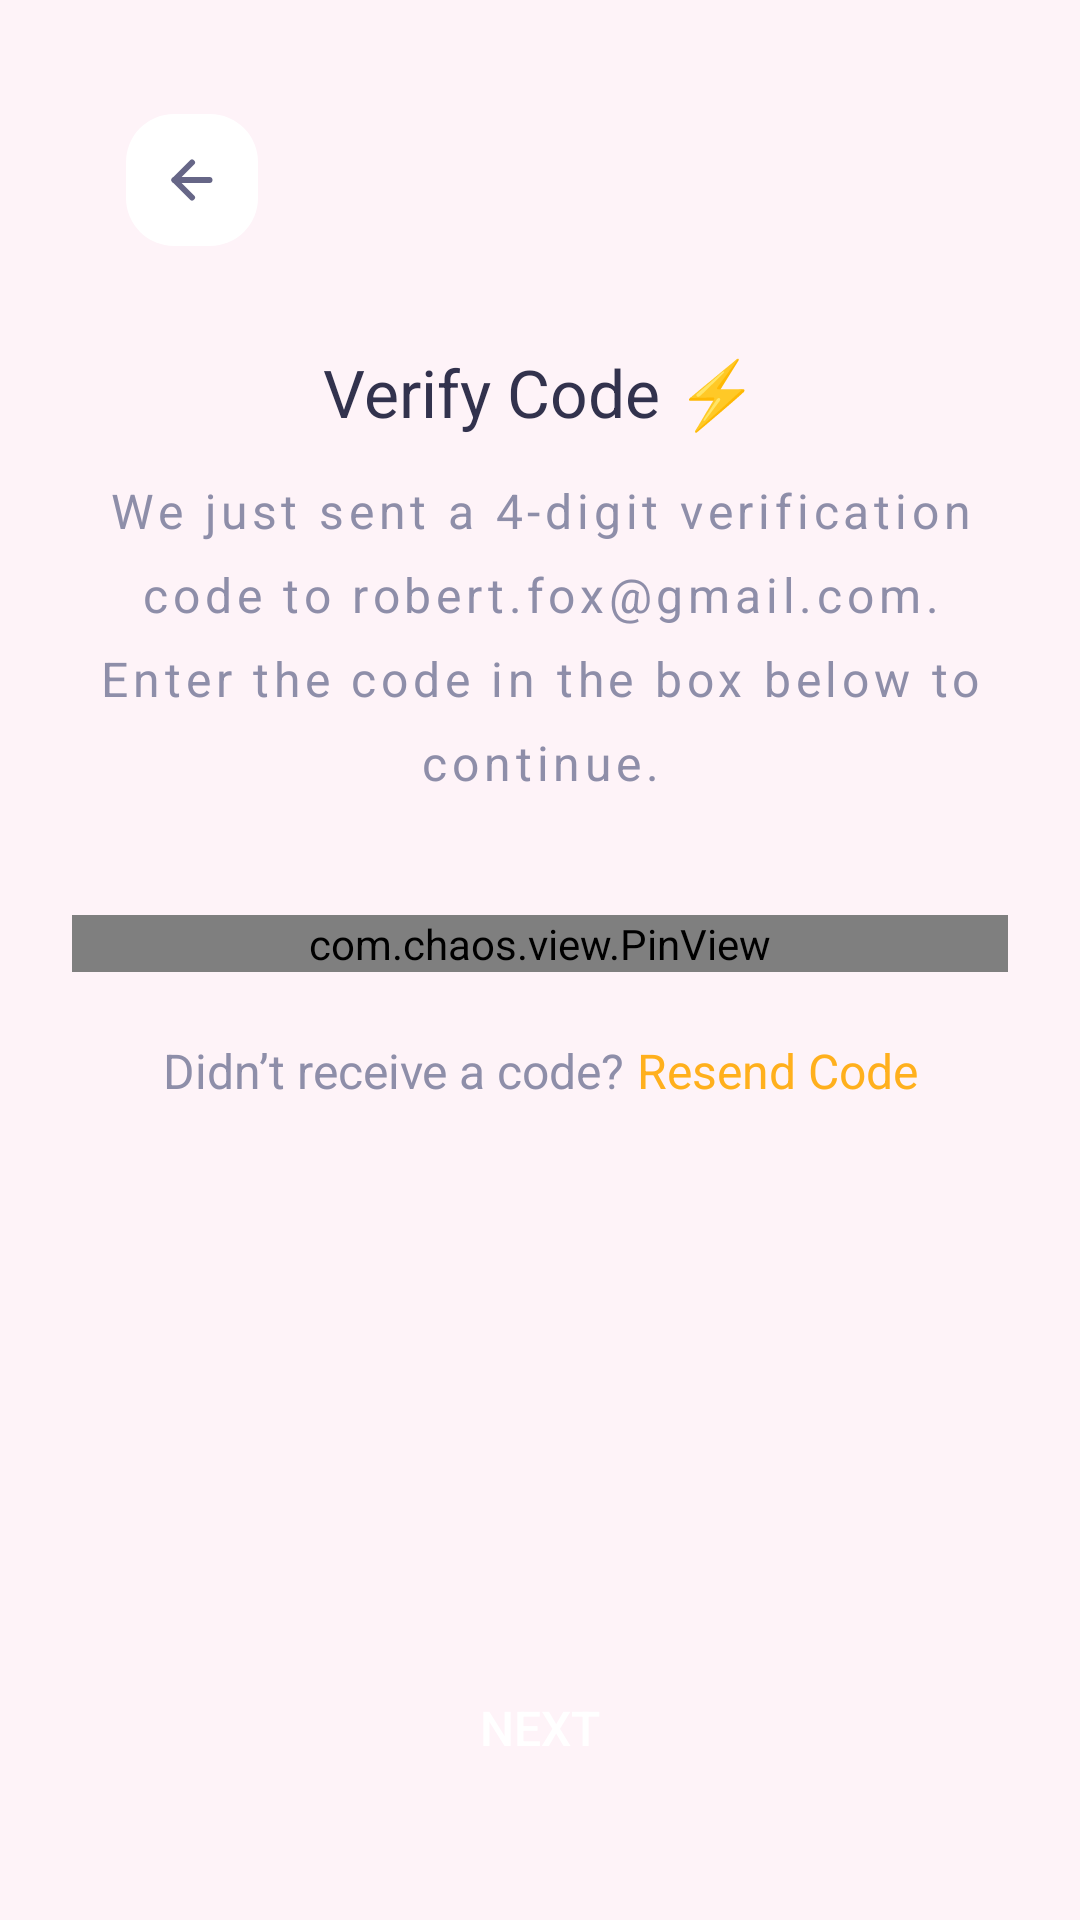

Locate icon controls on the screen. Image size 1080×1920, boxes as (x1, y1, x2, y2).
back: (126, 114, 258, 246)
